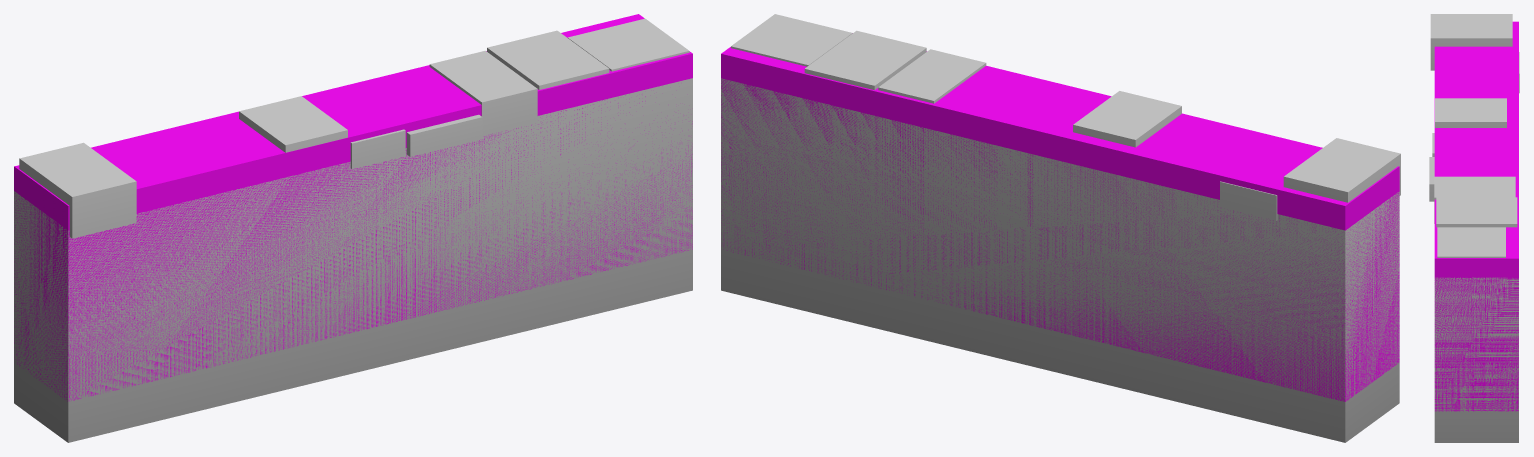
File: stone_wall_low.glb
3 renders of one model, left to right at view 1: azimuth 30°, elevation 25°; view 2: azimuth 150°, elevation 25°; view 3: azimuth 270°, elevation 25°, orthographic. The views are drawn at different scales.
Parts seen in each view (by area): view 1: stone_wall_low, stone_wall_low_hull; view 2: stone_wall_low, stone_wall_low_hull; view 3: stone_wall_low, stone_wall_low_hull.
Boxes of the visible parts, <box> form: stone_wall_low: <box>14,18,692,442</box>; stone_wall_low_hull: <box>14,14,692,401</box>; stone_wall_low: <box>721,14,1400,442</box>; stone_wall_low_hull: <box>721,47,1399,401</box>; stone_wall_low: <box>1429,14,1519,442</box>; stone_wall_low_hull: <box>1434,21,1518,411</box>.
Bounding box in the file's own units: 4 × 1.51 × 0.6441.
